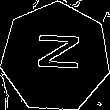N_W: (30, 36, 81, 79)
